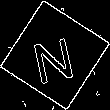N_N: (30, 26, 80, 84)
